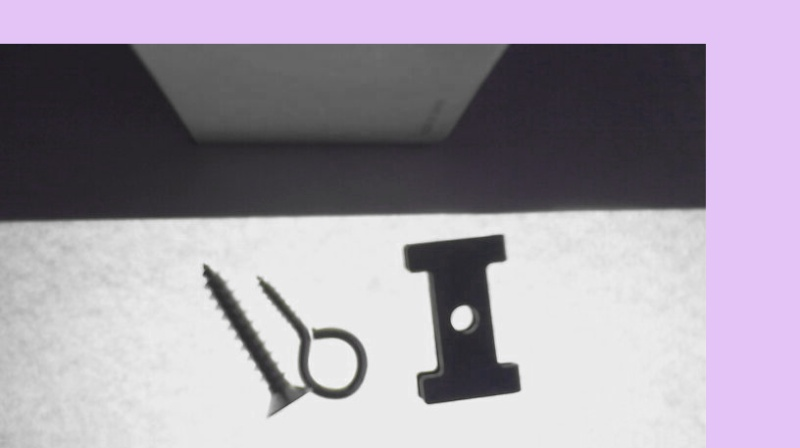O001: (249, 271, 367, 400)
O002: (399, 232, 522, 403)
S001: (198, 258, 310, 418)
